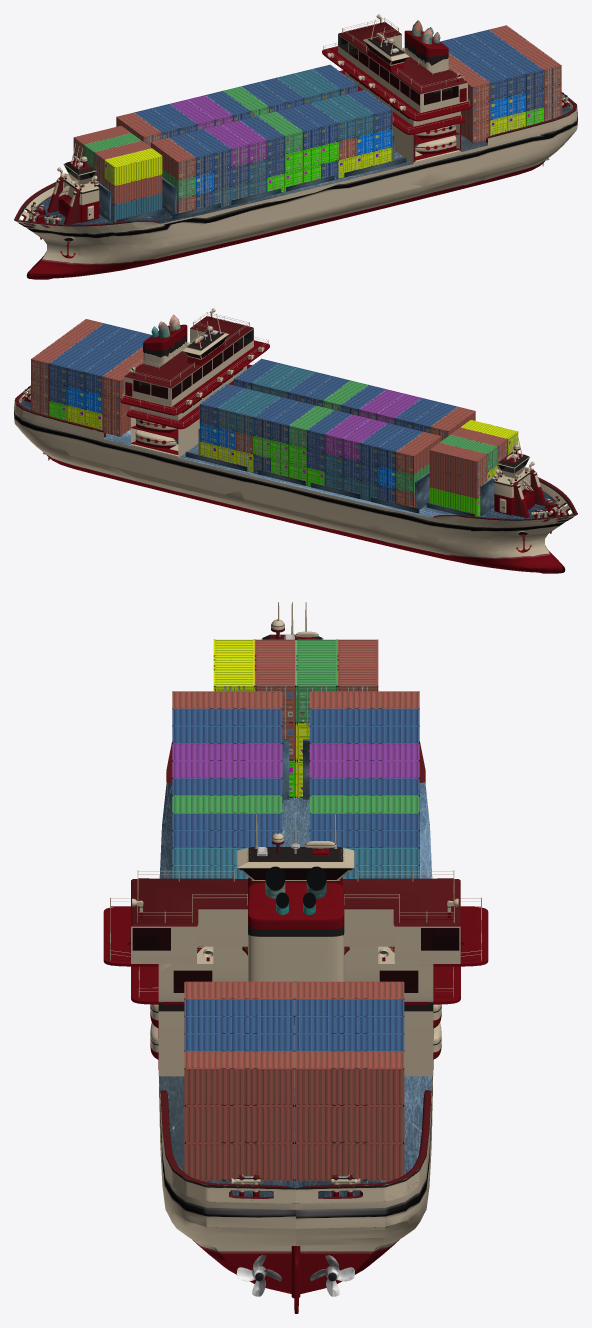
Rendered from cargo_ship.glb.
3 renders of one model, top to bottom at view 1: azimuth 30°, elevation 25°; view 2: azimuth 150°, elevation 25°; view 3: azimuth 270°, elevation 25°, orthographic. The views are drawn at different scales.
Visible parts, largest first — view 1: Object_19, Object_13, Object_32, Object_10, Object_12, Object_9, Object_16, Object_40, Object_11, Object_8, Object_37, Object_14 (+6 smaller); view 2: Object_19, Object_13, Object_32, Object_10, Object_12, Object_8, Object_16, Object_40, Object_11, Object_9, Object_37, Object_14 (+5 smaller); view 3: Object_32, Object_10, Object_13, Object_19, Object_40, Object_16, Object_11, Object_12, Object_36, Object_37, Object_9, Object_35 (+3 smaller).
Part boxes in pixels (x1,y1,x2,y2): Object_19: [25, 113, 577, 279]; Object_13: [134, 29, 543, 208]; Object_32: [14, 18, 577, 228]; Object_10: [73, 25, 561, 213]; Object_12: [111, 69, 374, 222]; Object_9: [93, 111, 525, 185]; Object_16: [170, 95, 267, 167]; Object_40: [26, 103, 577, 225]; Object_11: [84, 86, 302, 199]; Object_8: [267, 107, 543, 192]; Object_37: [64, 35, 458, 180]; Object_14: [196, 93, 525, 194]; Object_19: [14, 407, 565, 573]; Object_13: [49, 323, 457, 503]; Object_32: [14, 312, 577, 525]; Object_10: [31, 319, 518, 507]; Object_12: [217, 363, 378, 501]; Object_8: [49, 401, 480, 516]; Object_16: [324, 389, 421, 461]; Object_40: [20, 397, 565, 519]; Object_11: [289, 380, 497, 493]; Object_9: [66, 405, 518, 480]; Object_37: [133, 329, 528, 473]; Object_14: [66, 386, 395, 488]; Object_32: [103, 602, 488, 1313]; Object_10: [172, 639, 419, 1180]; Object_13: [172, 708, 419, 1051]; Object_19: [150, 789, 441, 1293]; Object_40: [159, 739, 432, 1203]; Object_16: [172, 743, 419, 778]; Object_11: [172, 639, 419, 813]; Object_12: [172, 848, 419, 878]; Object_36: [130, 847, 461, 960]; Object_37: [132, 868, 459, 1008]; Object_9: [213, 639, 309, 797]; Object_35: [160, 743, 431, 1203].
Bounding box in the file's own units: 9.14 × 2.74 × 2.8.
Materials: 29 (28 with a texture image).
